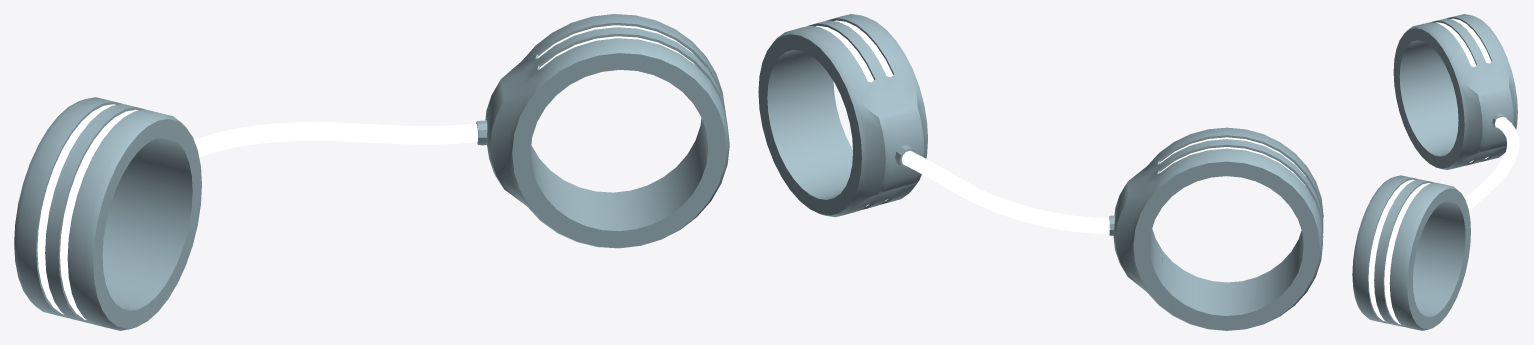
Rendered from handcuffs.fbx.
The picture shows the model from 3 angles, left to right: view 1: azimuth 30°, elevation 25°; view 2: azimuth 150°, elevation 25°; view 3: azimuth 270°, elevation 25°; orthographic projection. The views are drawn at different scales.
Visible parts, largest first — view 1: handcuffs; view 2: handcuffs; view 3: handcuffs.
Boxes of the visible parts, bbox=[...] form: handcuffs: bbox=[14, 14, 729, 330]; handcuffs: bbox=[758, 14, 1323, 330]; handcuffs: bbox=[1352, 14, 1519, 330].
Size of the model in its own units: 26.65 by 7.91 by 8.52.
1 material, 1 textured.
